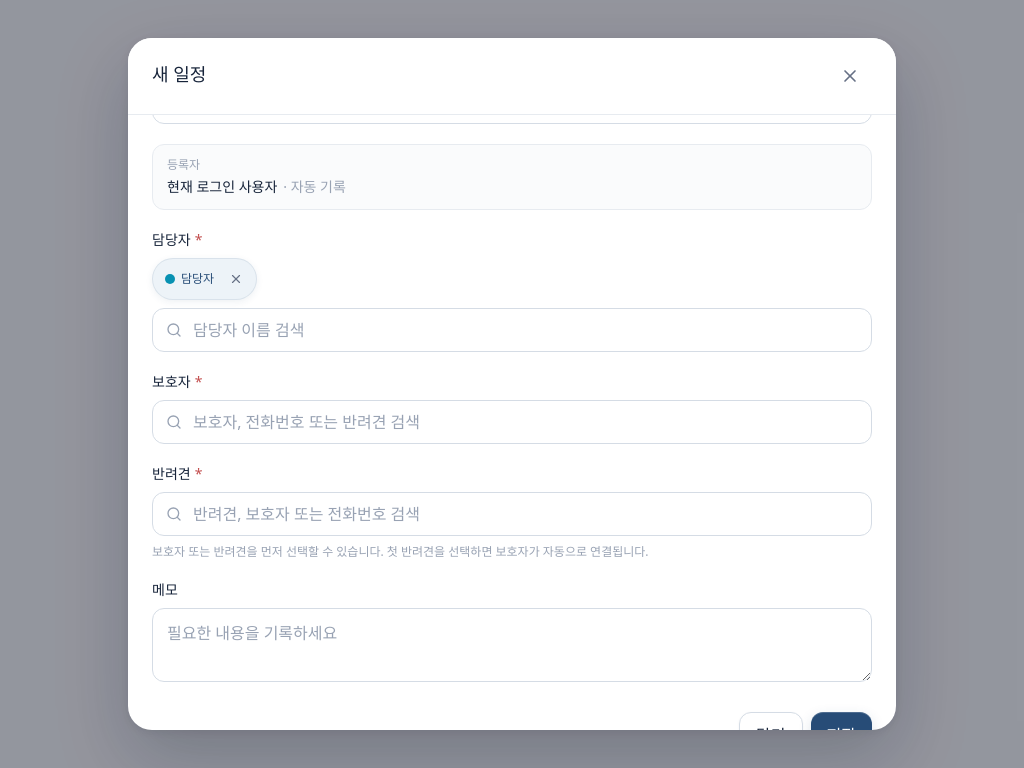
Test case: shared ScheduleFormModal Hotel mode › projects linked Dogs from the canonical directory before Customer selection
(page scrolled)
Type "01012345678" into the dropdown labelled "보호자" at (512,422), box x1=152 y1=400 x2=872 y2=444
(page scrolled)
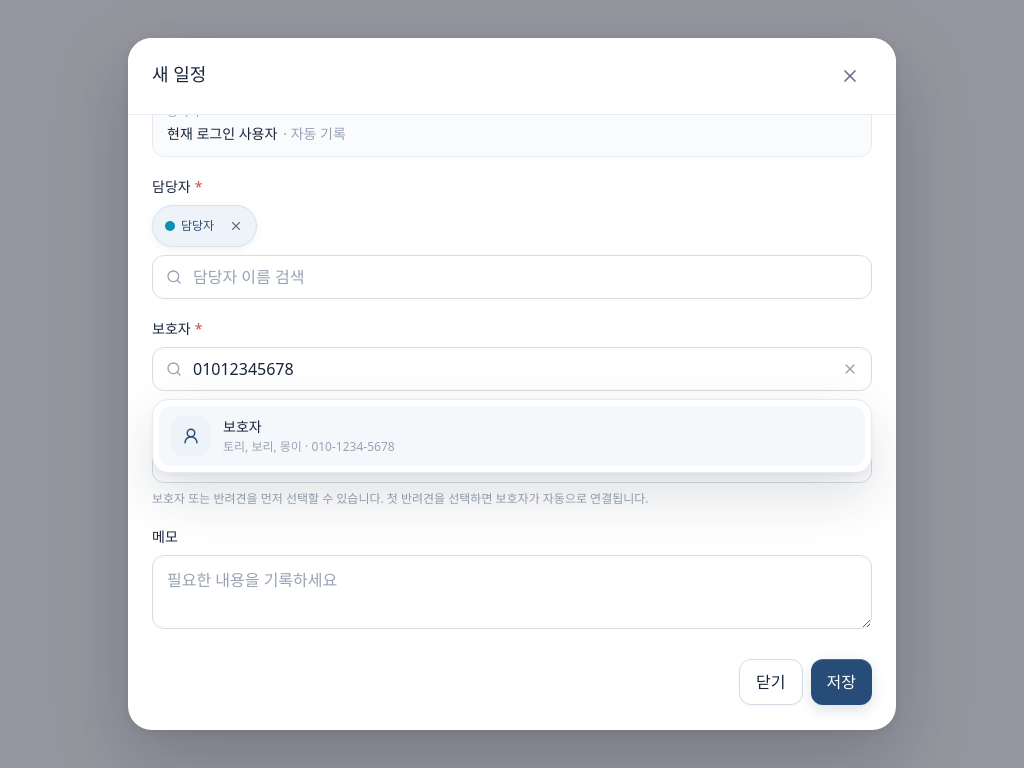
Result: the option "보호자 토리, 보리, 몽이 · 010-1234-5678" is shown at x1=159 y1=406 x2=865 y2=466
